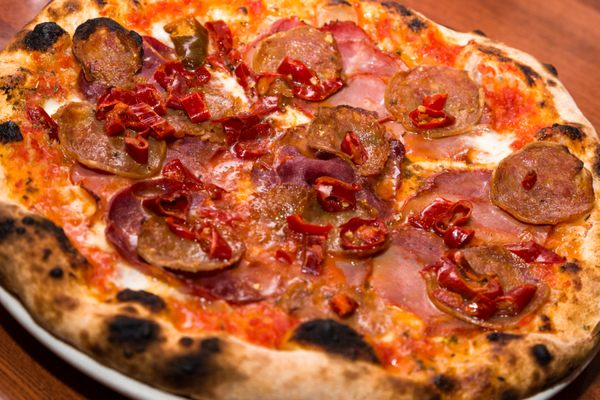sandwich: (0, 0, 599, 393)
